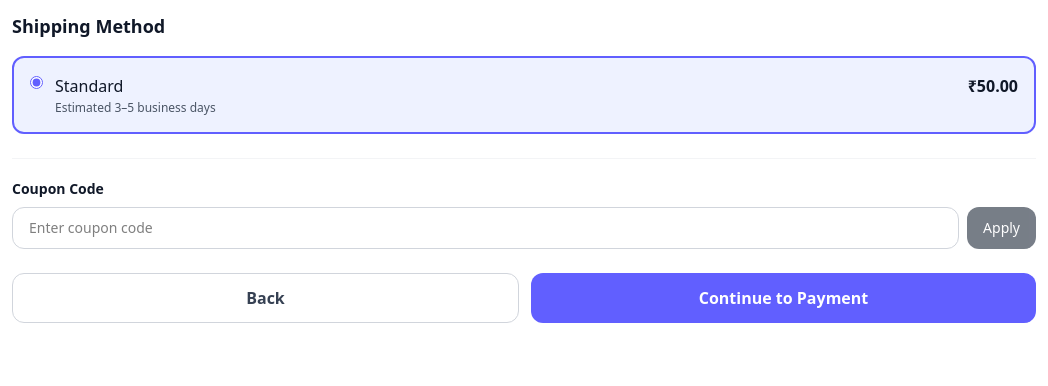
Test case: ShippingStep coupon application › shows the backend error message when applying a coupon fails
Type "EXPIRED" into the field with placeholder "Enter coupon code" at (486, 228), box top-left (12, 207), bottom-right (959, 249)
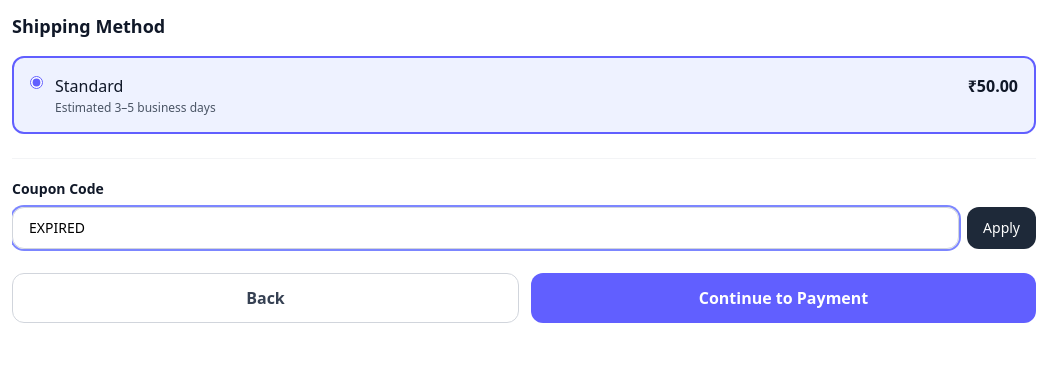
Click the button "Apply" at (1002, 228), box top-left (967, 207), bottom-right (1036, 249)
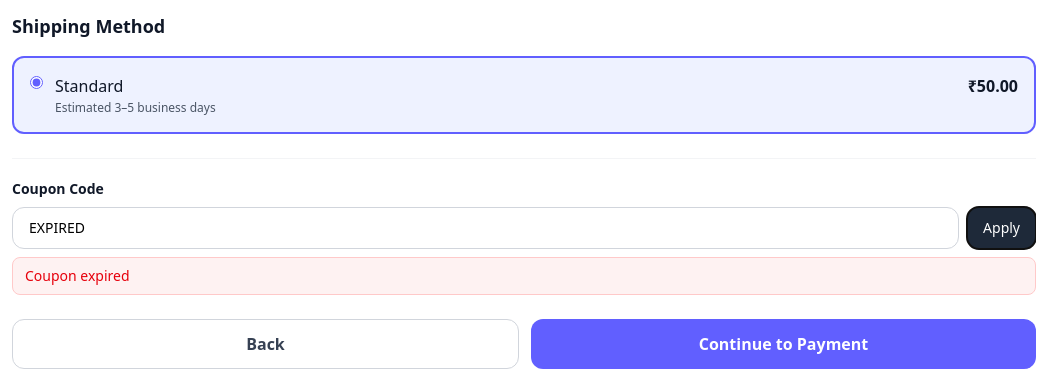
Result: the text "Coupon expired" is shown at top-left (12, 257), bottom-right (1036, 295)
